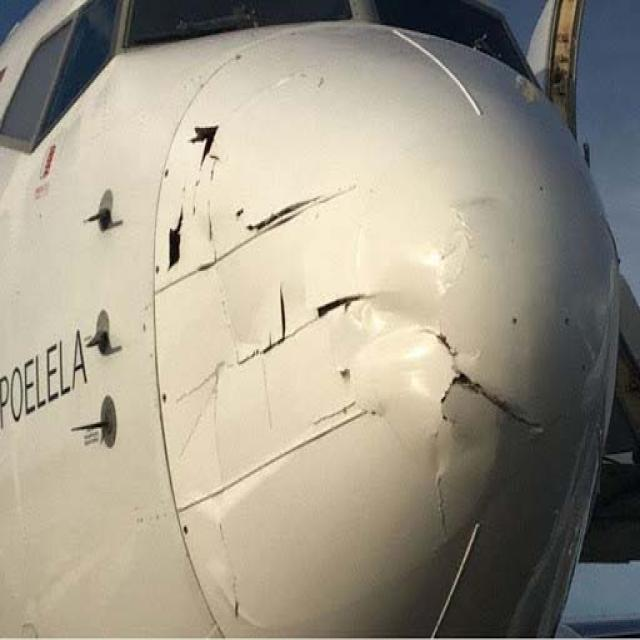Rupture: (432, 337, 548, 517), (242, 192, 346, 234), (166, 220, 192, 280), (191, 126, 220, 156)
